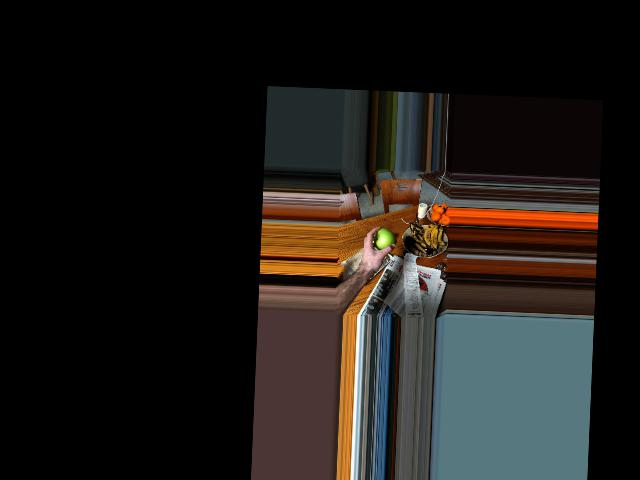apple: (373, 226, 395, 251)
